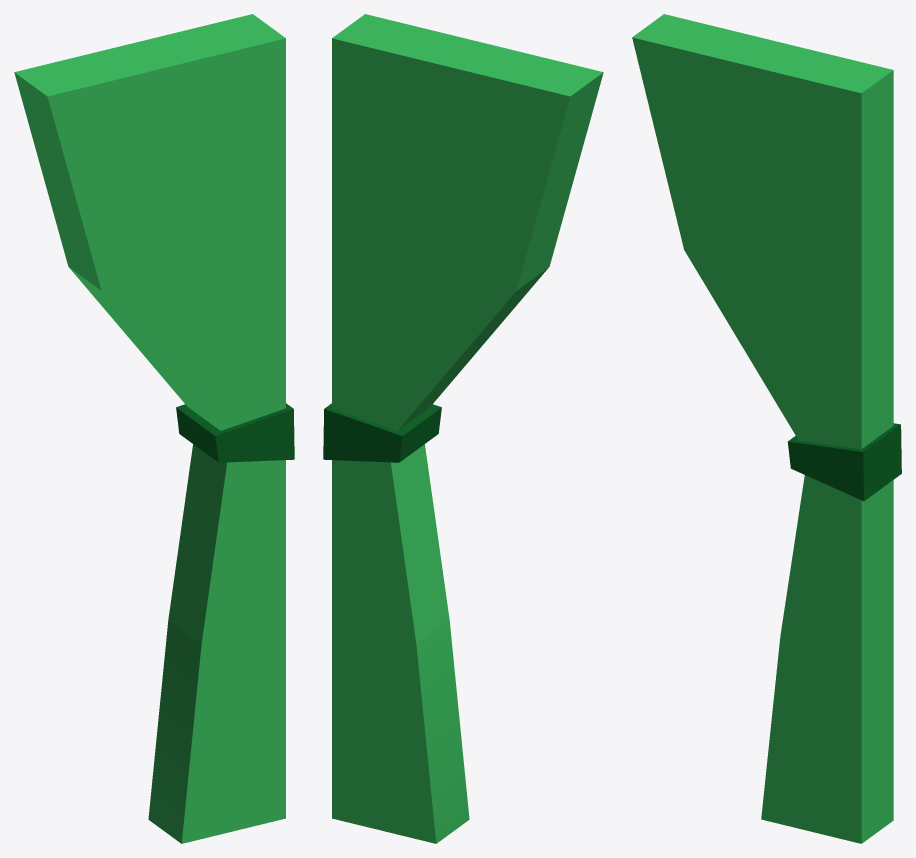
Rendered from Curtain 01 Green.FBX.
3 views of the same model, side by side, from view 1: azimuth 30°, elevation 25°; view 2: azimuth 150°, elevation 25°; view 3: azimuth 330°, elevation 25° (orthographic). The views are drawn at different scales.
Parts seen in each view (by area): view 1: Curtain 01 Green; view 2: Curtain 01 Green; view 3: Curtain 01 Green.
Boxes of the visible parts, x1,y1,x2,y2 form: Curtain 01 Green: (14, 14, 294, 843); Curtain 01 Green: (323, 14, 603, 843); Curtain 01 Green: (632, 14, 901, 843).
Size of the model in its own units: 81.87 by 250 by 22.89.
